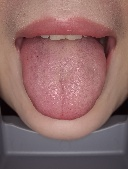tongue: (18, 43, 107, 121)
